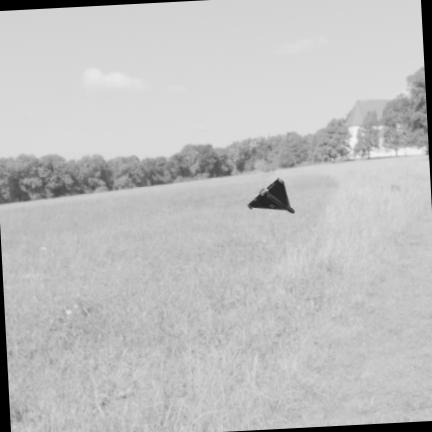Shahed: (249, 178, 295, 213)
